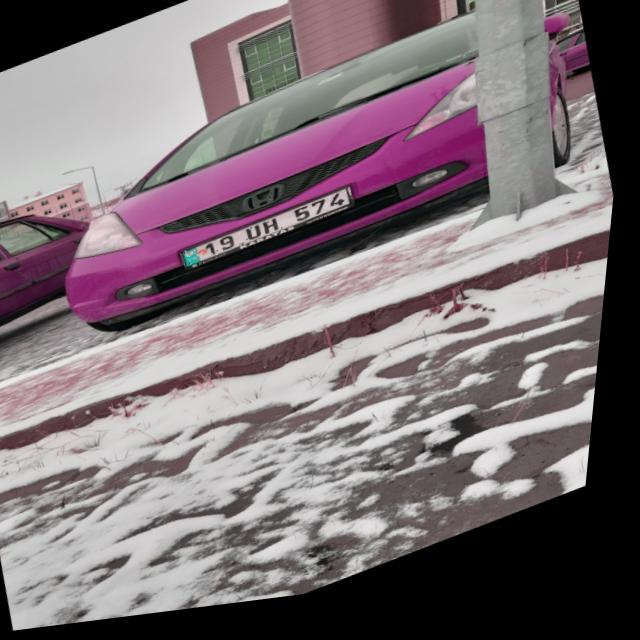license_plate: (183, 195, 358, 274)
